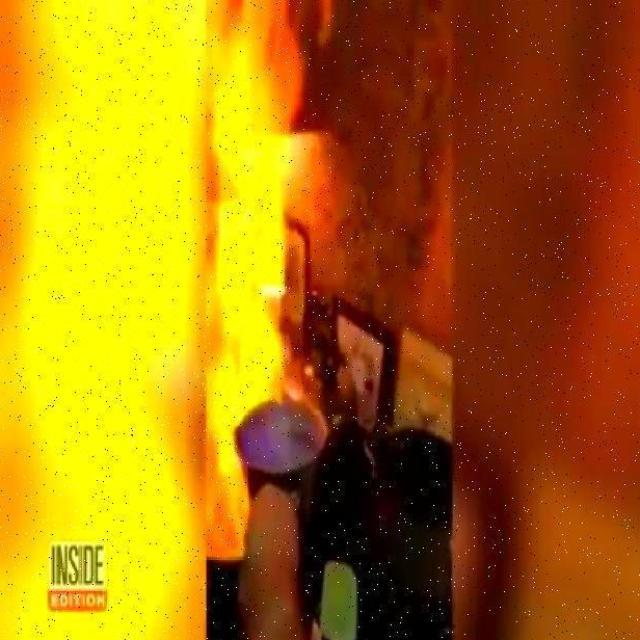smoke: (206, 0, 289, 561)
